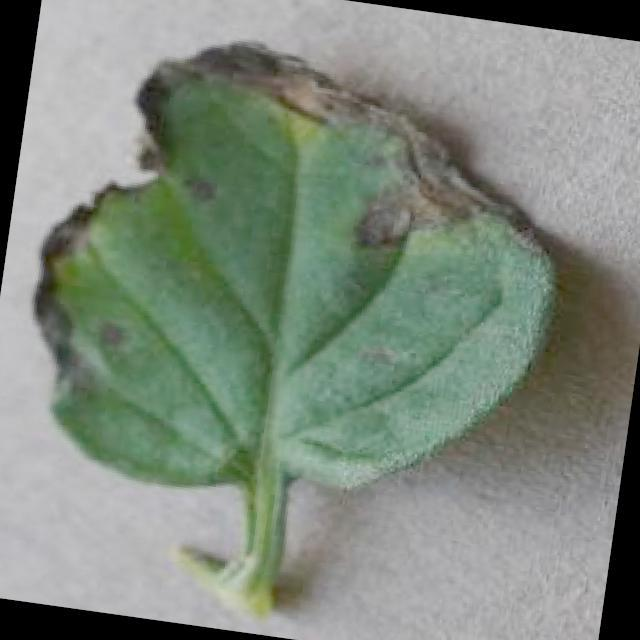Tomato Early blight leaf: (9, 11, 582, 541)
